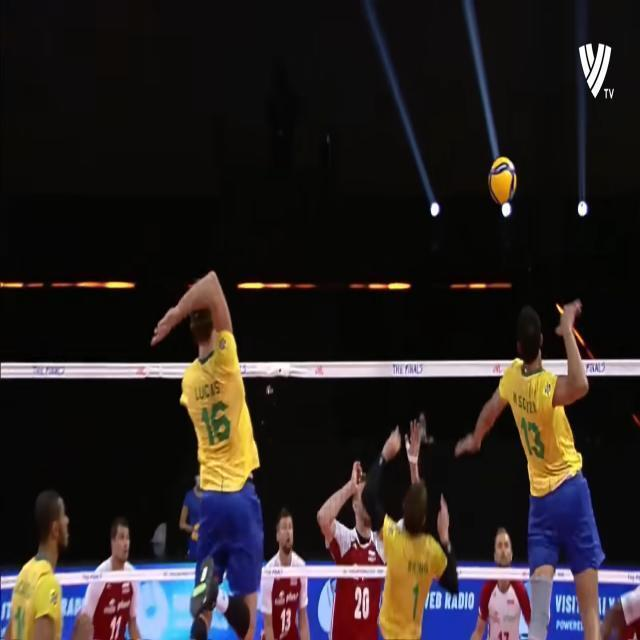volleyball: (488, 157, 516, 205)
